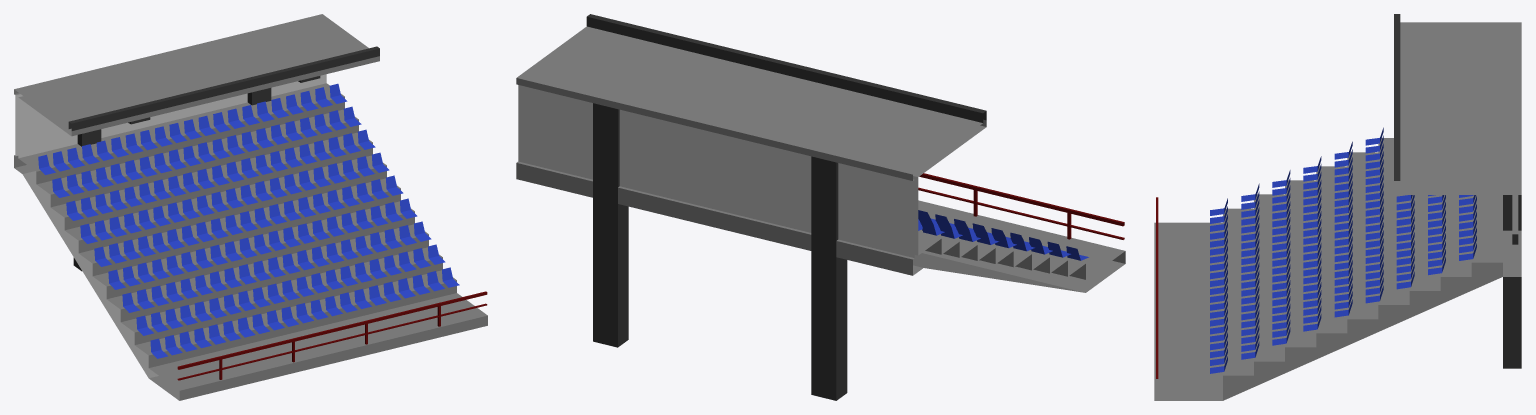
The model's file is Tribune_free.fbx.
3 views of the same model, side by side, from view 1: azimuth 30°, elevation 25°; view 2: azimuth 150°, elevation 25°; view 3: azimuth 270°, elevation 25° (orthographic). The views are drawn at different scales.
Parts seen in each view (by area): view 1: Tribune_free; view 2: Tribune_free; view 3: Tribune_free.
Part boxes in pixels (box(x1,y1,x2,y2)): Tribune_free: box(14, 14, 487, 400); Tribune_free: box(516, 14, 1125, 400); Tribune_free: box(1154, 14, 1521, 400).
Size of the model in its own units: 1270 by 780 by 1180.
